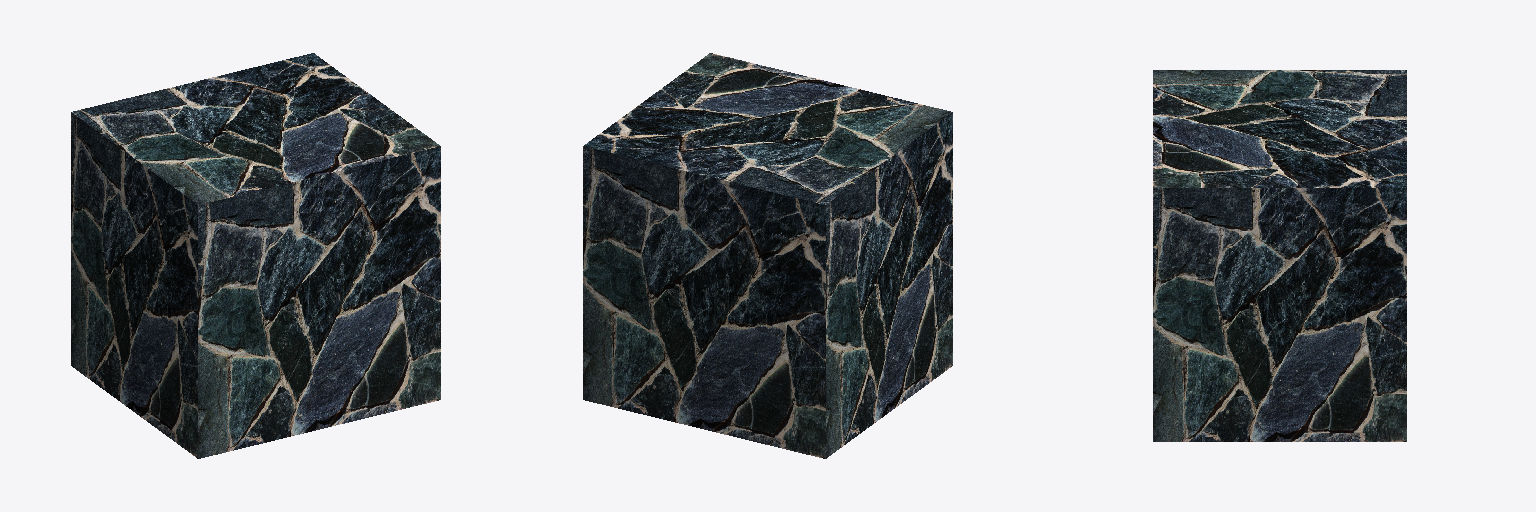
3 views of the same model, side by side, from view 1: azimuth 30°, elevation 25°; view 2: azimuth 150°, elevation 25°; view 3: azimuth 270°, elevation 25° (orthographic).
Visible parts, largest first — view 1: Box01; view 2: Box01; view 3: Box01.
Boxes of the visible parts, x1,y1,x2,y2 form: Box01: [71, 53, 440, 458]; Box01: [583, 53, 952, 458]; Box01: [1153, 70, 1406, 441].
Size of the model in its own units: 0.3374 by 0.3374 by 0.3069.
1 materials, 1 textured.